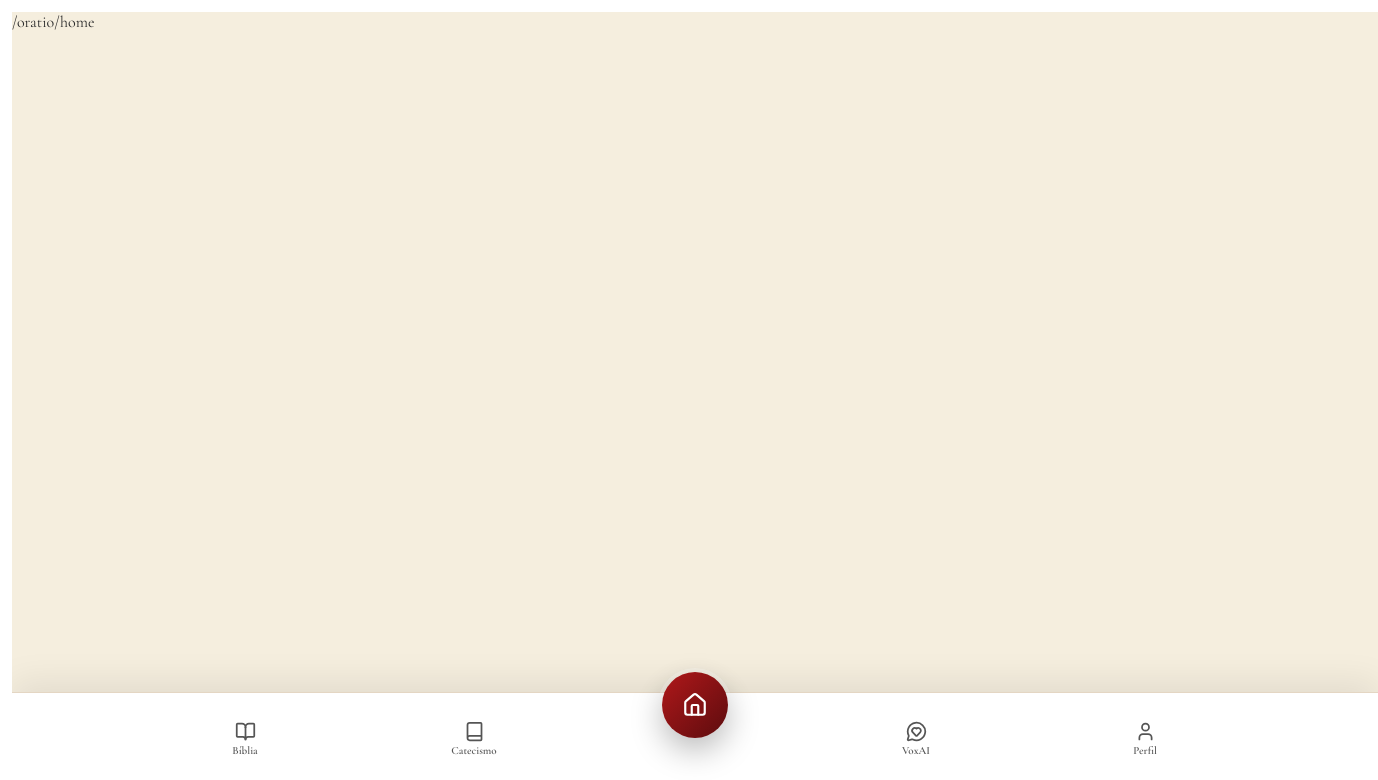
Test: BottomNavbar › navigates a locked item directly once logged in
Click the button with aria-label "Abrir Perfil": [1145, 738] box [1111,715,1179,762]
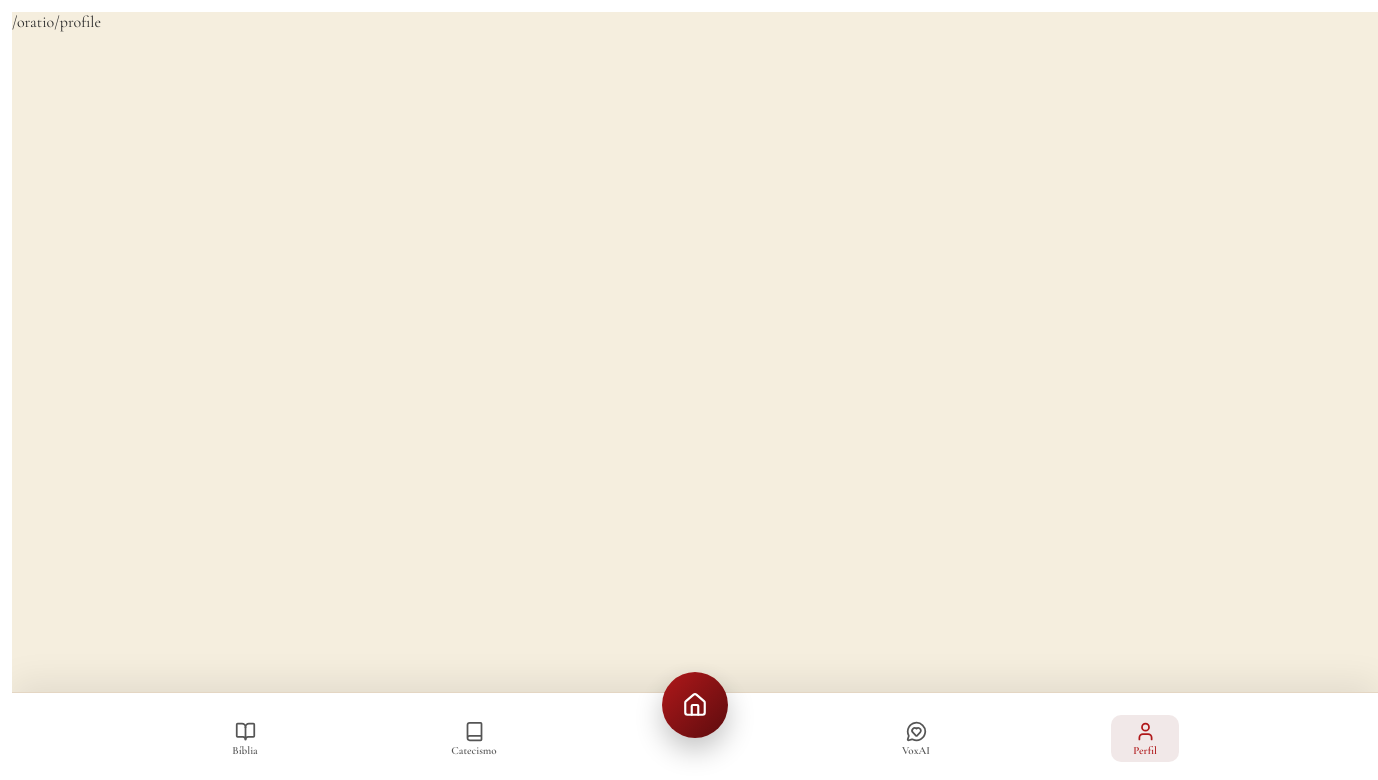
expect the text with test id "location" reads "/oratio/profile": met, box [12,12,101,32]
